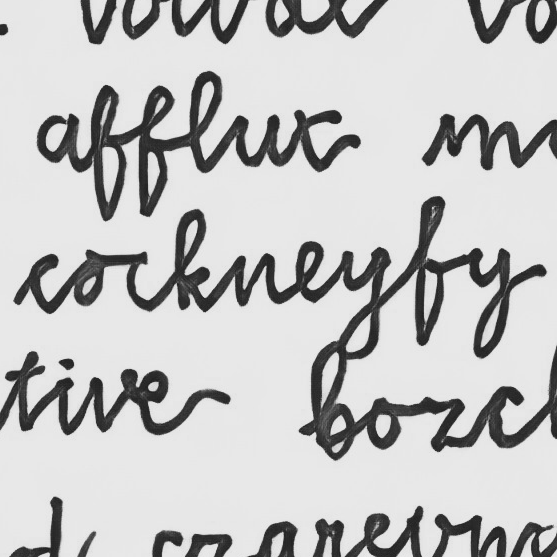c: (24, 251, 62, 317), (122, 250, 160, 313)
e: (292, 237, 327, 305)
f: (410, 192, 450, 351)
k: (171, 207, 213, 313)
n: (231, 250, 280, 309)
o: (69, 250, 108, 308)
y: (335, 245, 393, 361), (465, 245, 513, 362)
